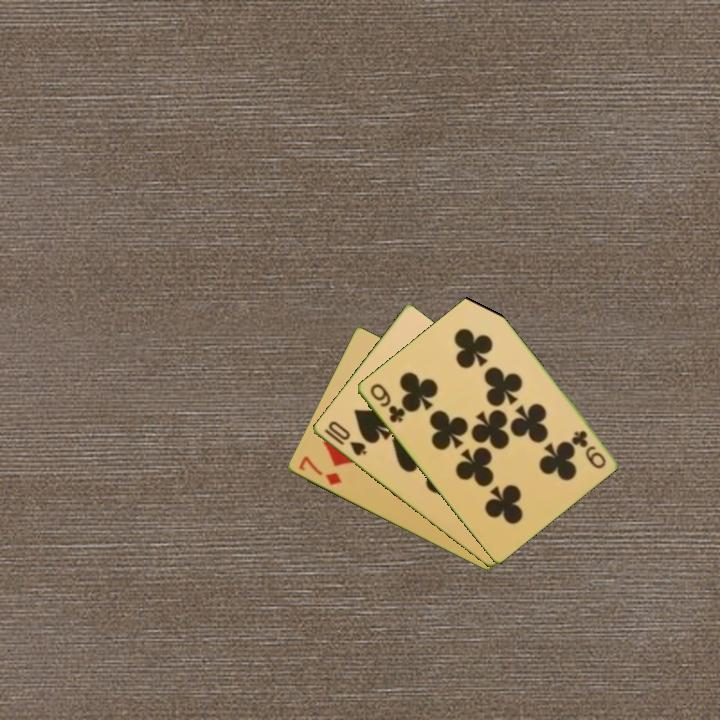10s: (320, 417, 369, 459)
7d: (295, 452, 344, 488)
9c: (366, 380, 407, 426), (568, 426, 609, 472)
